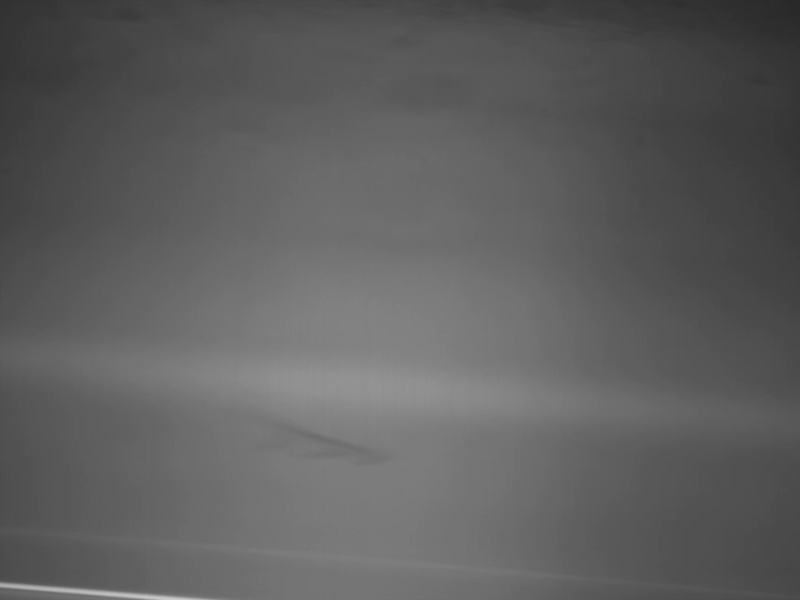bead: (201, 1, 681, 314)
